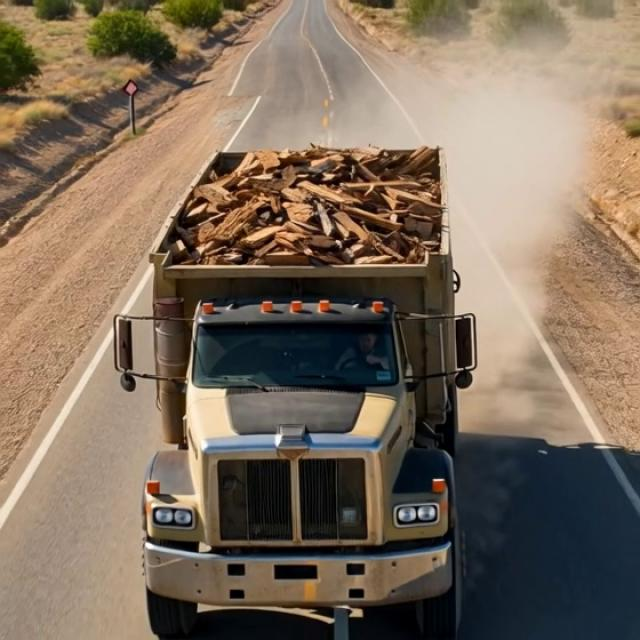Box: (136, 142, 462, 274)
Truck: (105, 115, 484, 640)
